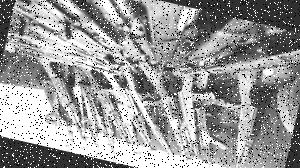rifle: (107, 52, 180, 166), (209, 65, 281, 168), (25, 55, 89, 152), (194, 57, 236, 168)
